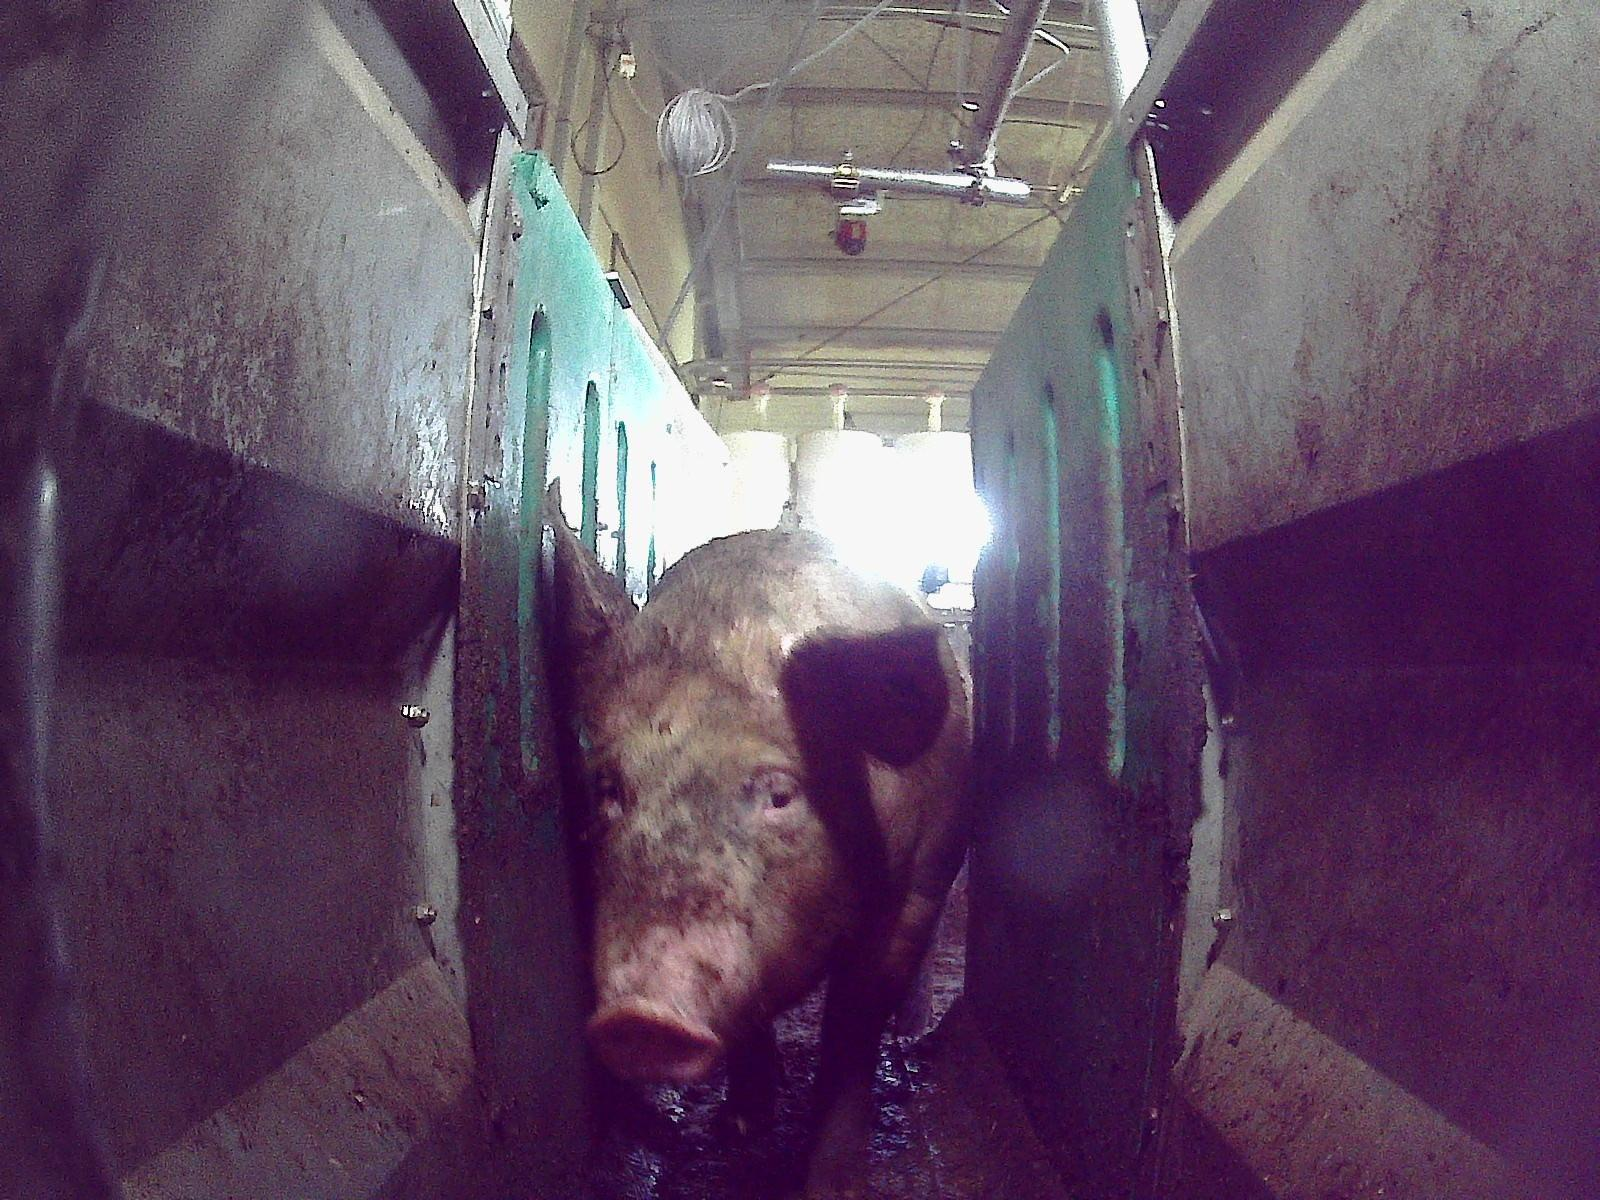Face: (560, 666, 854, 1078)
